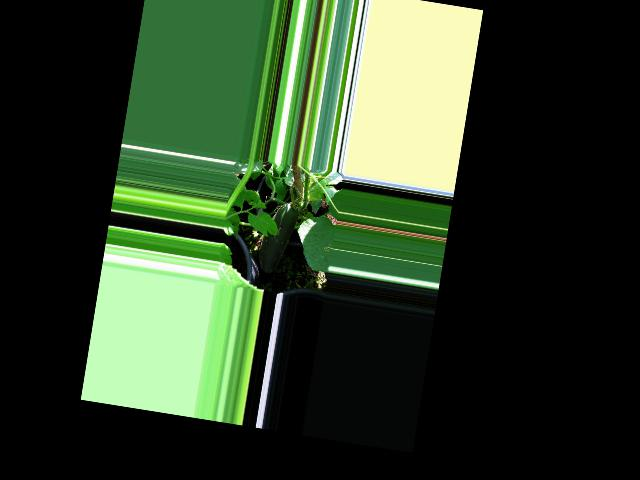cucumber: (256, 199, 300, 276)
